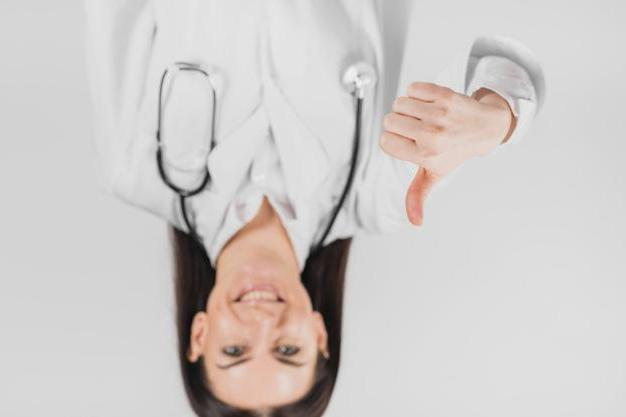thumbsdown: (378, 80, 460, 229)
